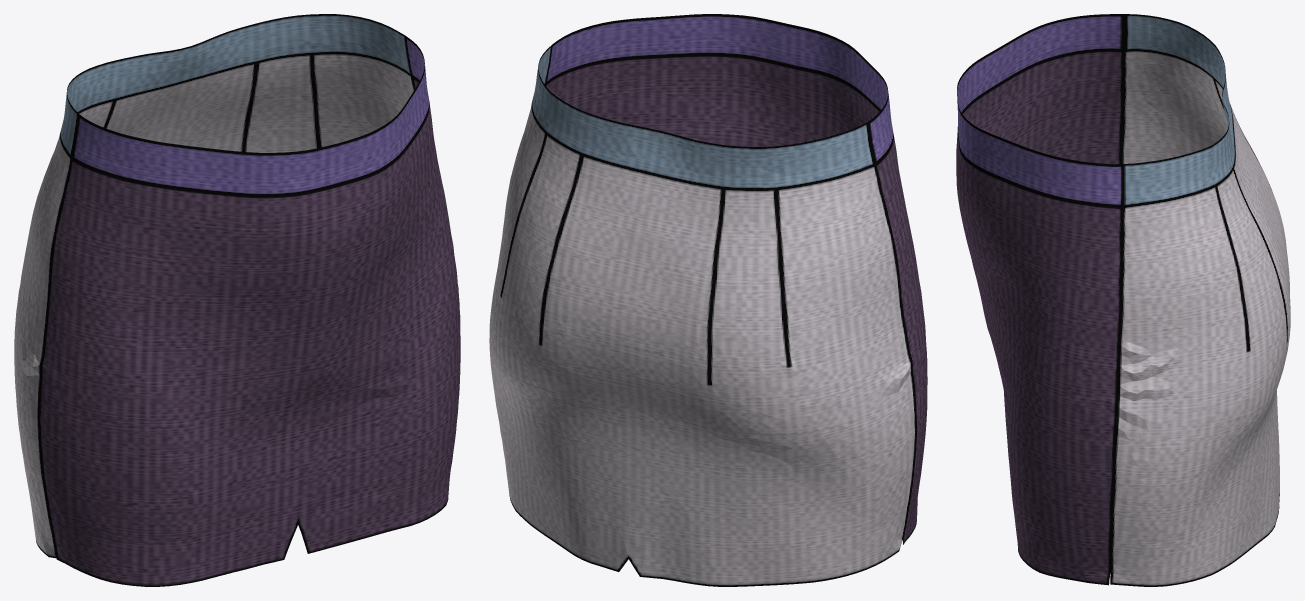
File: valid_garment_lower_sim.obj
3 renders of one model, left to right at view 1: azimuth 30°, elevation 25°; view 2: azimuth 150°, elevation 25°; view 3: azimuth 270°, elevation 25°, orthographic. The views are drawn at different scales.
Bounding box in the file's own units: 39.33 × 40.58 × 29.38.
1 material, 1 textured.
